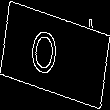O_S: (39, 25, 71, 85)
